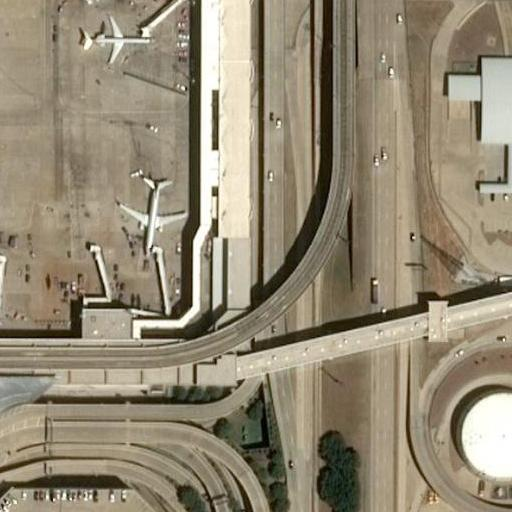Aircraft: (116, 173, 190, 254), (75, 10, 149, 65), (76, 0, 135, 7)
